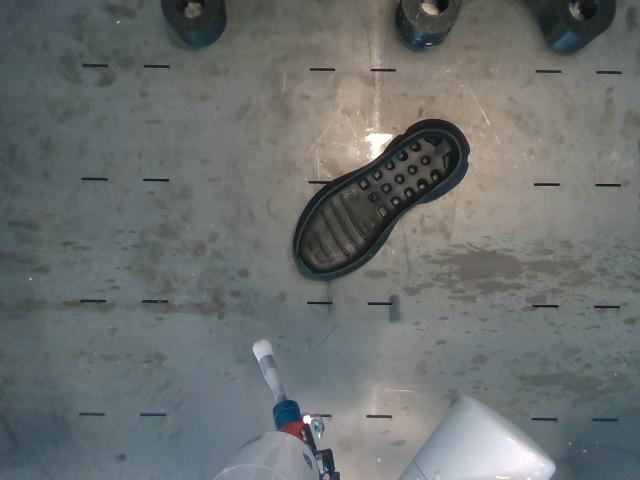shoes: (298, 130, 460, 273)
